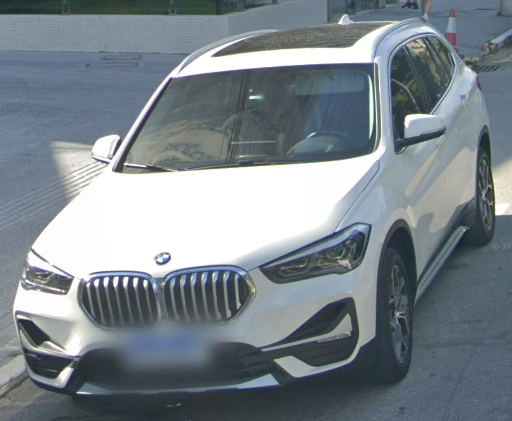car: (16, 22, 494, 401)
